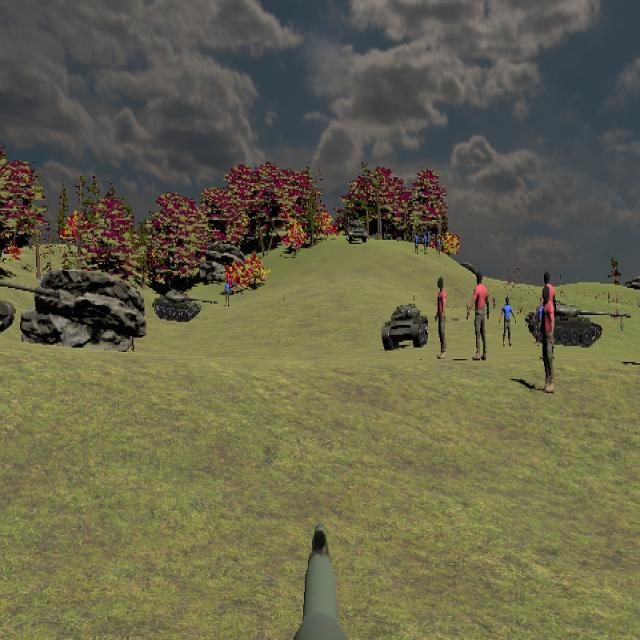Human: (466, 271, 490, 362), (538, 289, 556, 394), (435, 277, 448, 359), (499, 296, 516, 347)
Tank: (527, 301, 630, 348), (0, 268, 52, 338), (381, 301, 429, 351), (152, 289, 218, 323), (346, 219, 368, 245)
